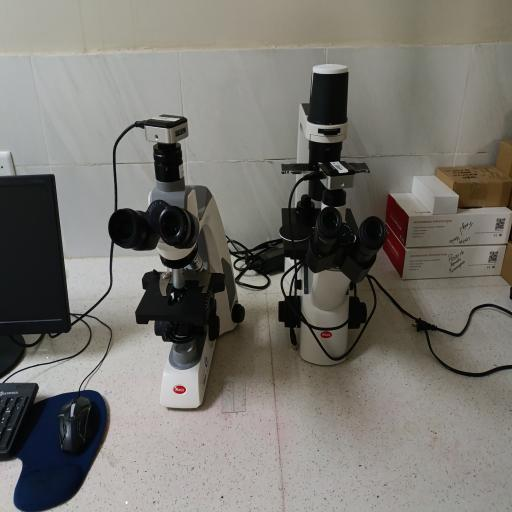Microscopio_camara: (104, 96, 259, 423)
